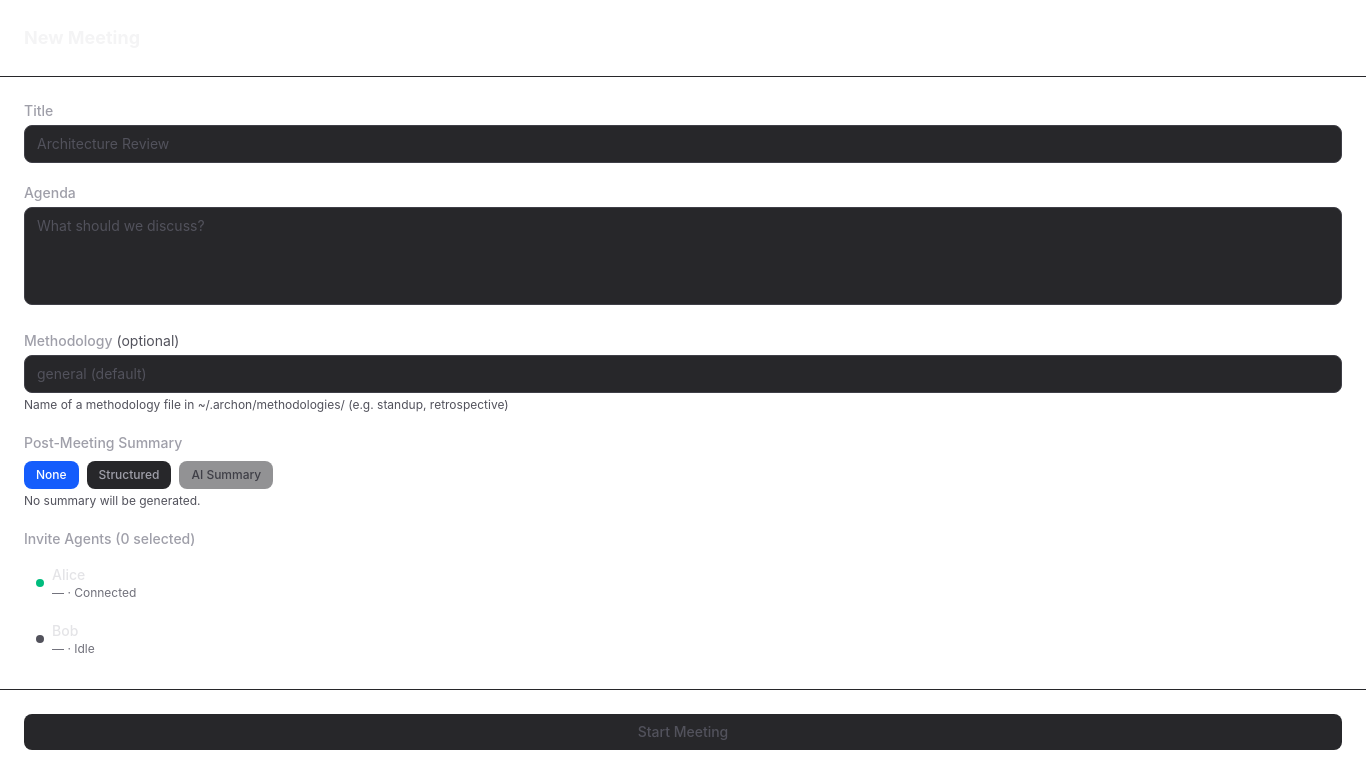
Test case: MeetingLauncher › shows description for selected summary mode
Expected: the text "No summary will be generated." is shown, top-left (24, 493), bottom-right (201, 508)
Note: Select structured
Click the button "Structured" at (129, 475), box top-left (87, 461), bottom-right (171, 489)
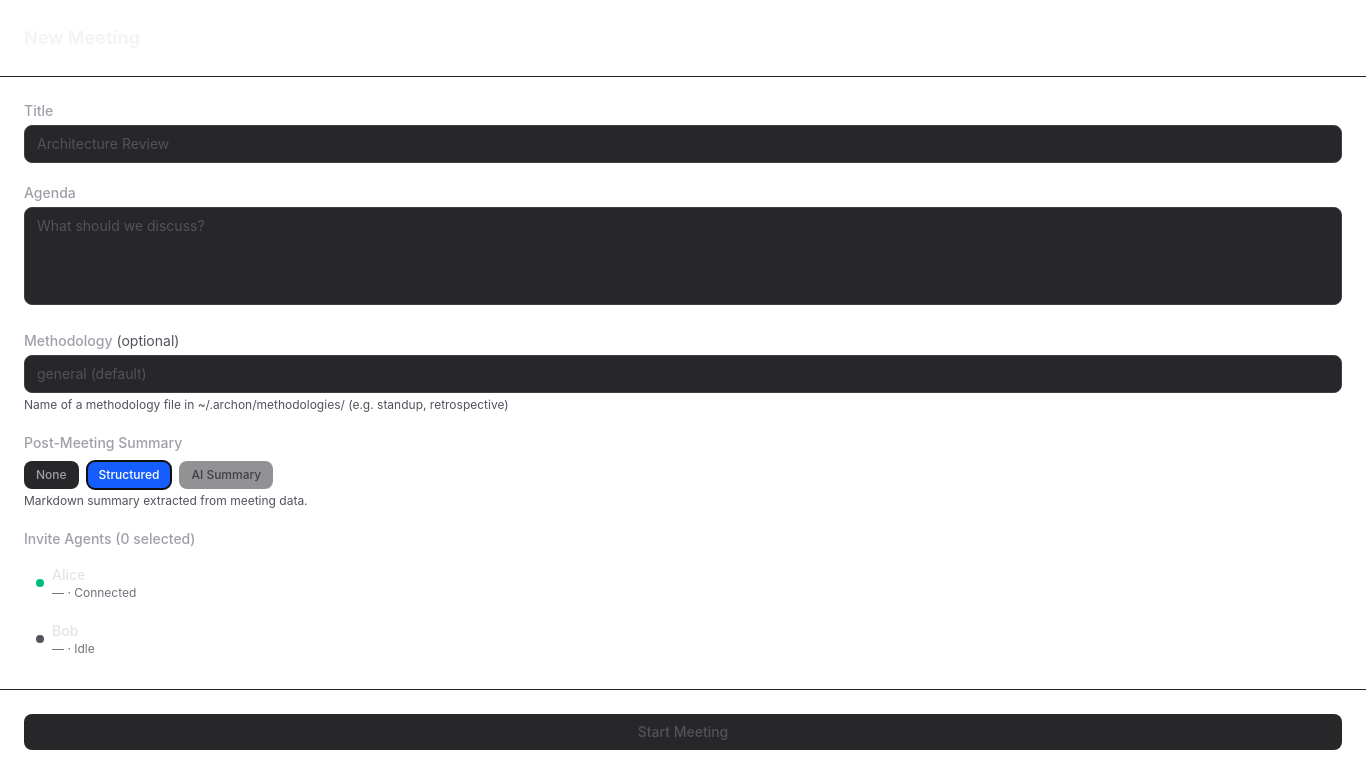
Now the text "Markdown summary extracted from meeting data." is shown, box top-left (24, 493), bottom-right (308, 508)
